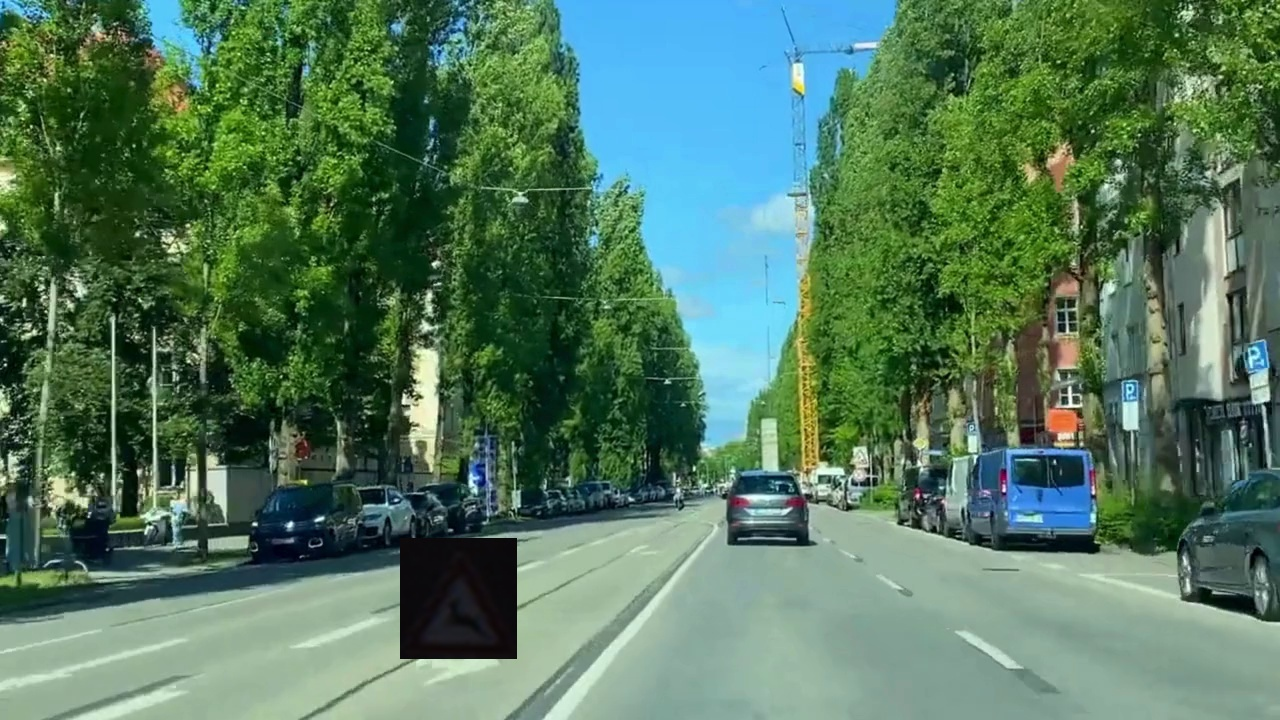Wild animals: (400, 538, 517, 659)
